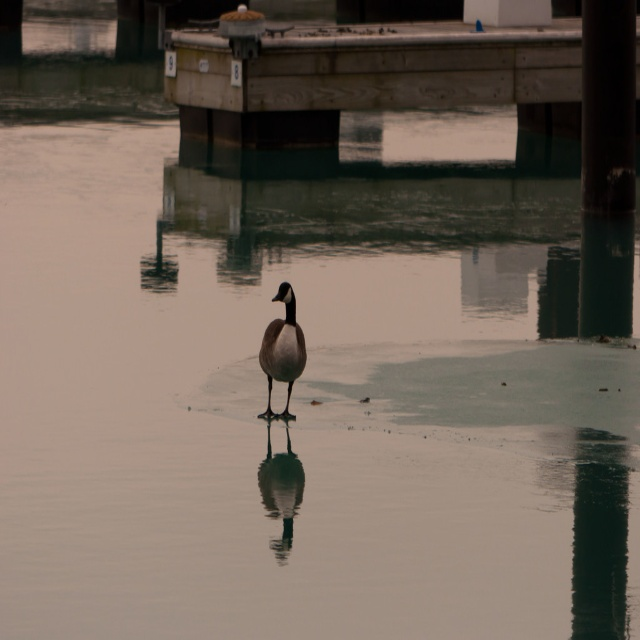Duck: (254, 278, 314, 426)
